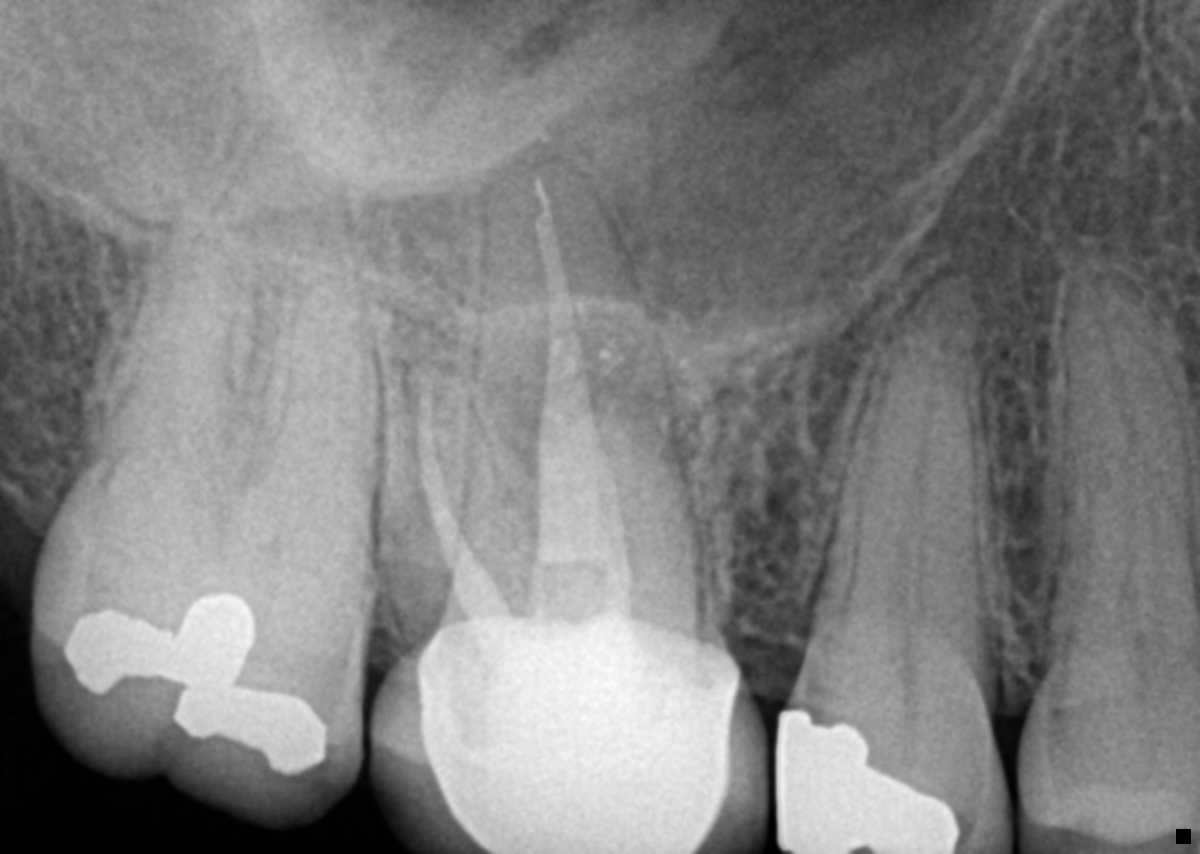Apical Lesion: (479, 309, 711, 448)
Distal Root: (370, 353, 535, 646), (71, 245, 242, 514)
Main Canal: (898, 298, 965, 725), (1099, 312, 1152, 690)
Main Root: (791, 274, 991, 741), (1042, 268, 1200, 703)
Mesial Root: (222, 272, 378, 612), (584, 396, 700, 641)
Palatal Root: (95, 117, 376, 595), (436, 158, 707, 633)
Root Canal Filling: (525, 179, 640, 613), (416, 391, 511, 627)
